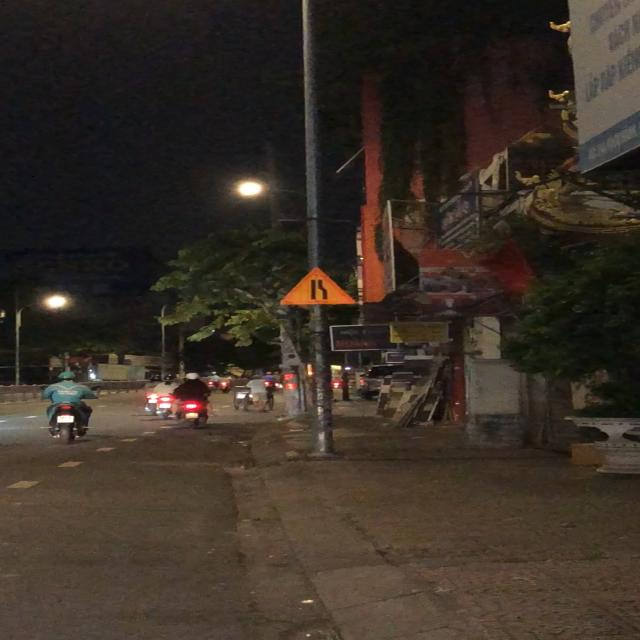Bien bao duong bi thu hep: (276, 266, 360, 307)
